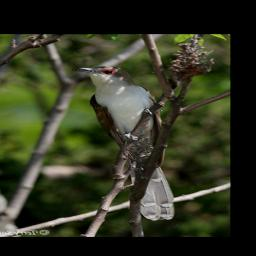Cuckoo: (71, 63, 178, 220)
